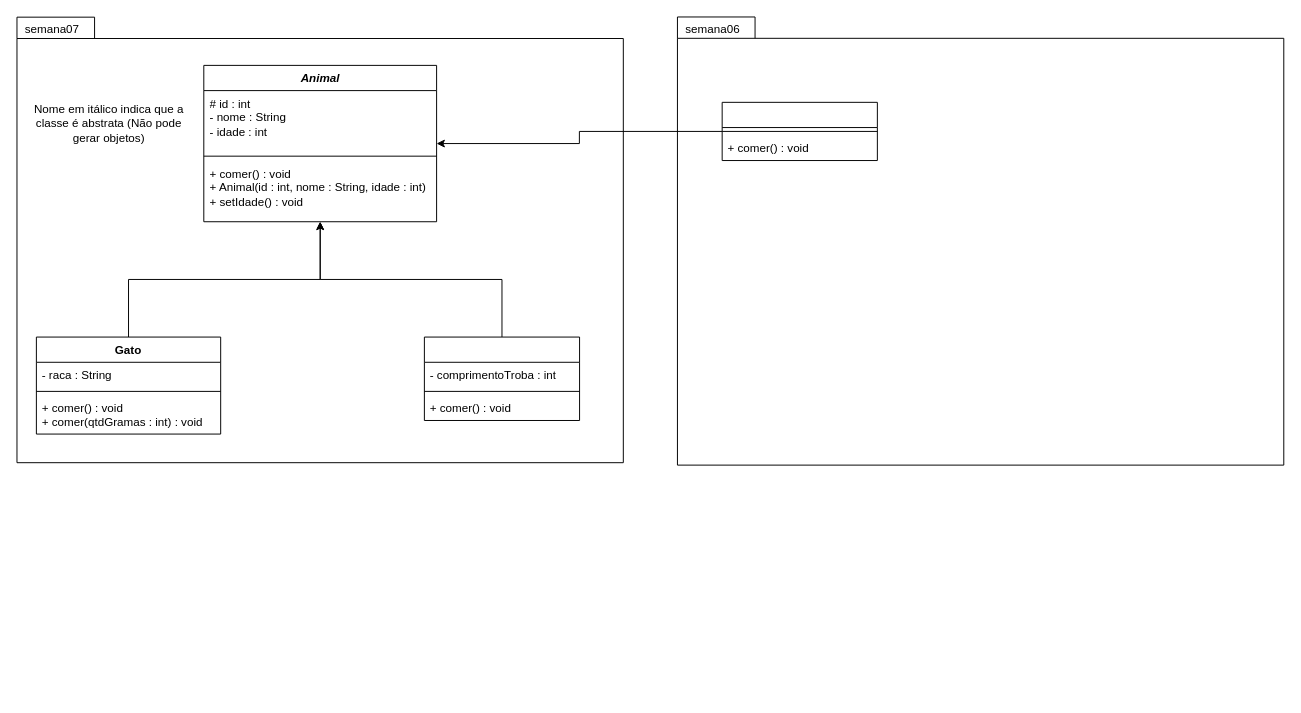
Image size: 1301x713. Some labels were removed from this diagram. The box of each missing label's shape, as (x1, y1, x2, y2) in pixels:
Cachorro: (721, 101, 877, 161)
Elefante: (423, 336, 580, 420)
